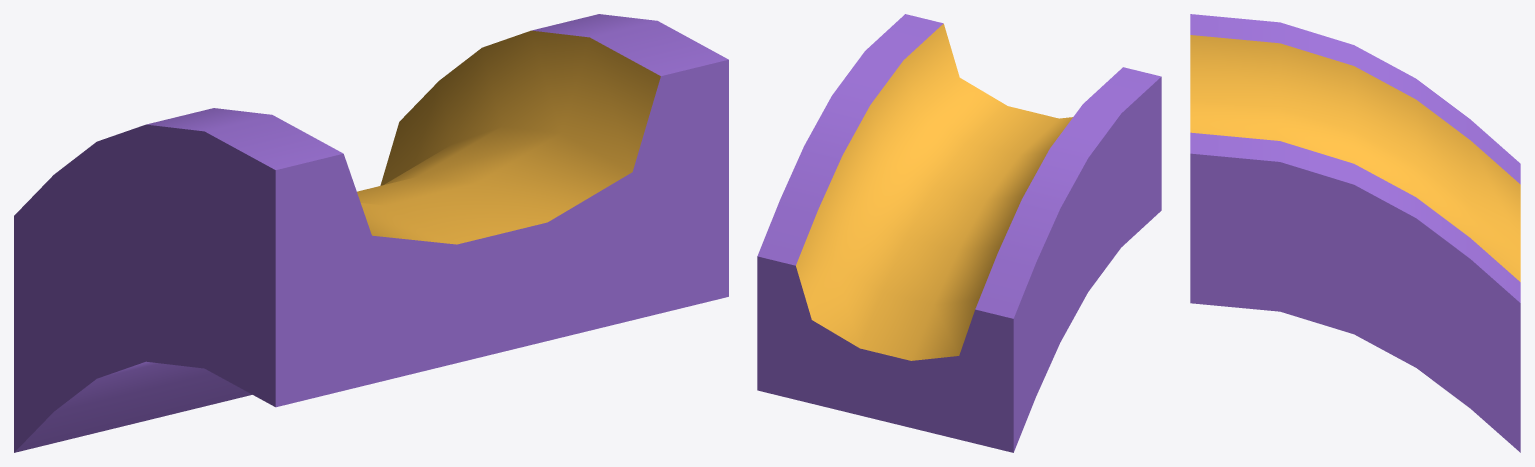
The model's file is kenney-marble-ramp-end-c.glb.
3 views of the same model, side by side, from view 1: azimuth 30°, elevation 25°; view 2: azimuth 150°, elevation 25°; view 3: azimuth 270°, elevation 25° (orthographic). The views are drawn at different scales.
Visible parts, largest first — view 1: ramp-end-c; view 2: ramp-end-c; view 3: ramp-end-c.
Part boxes in pixels (left/top/right/bottom): ramp-end-c: left=14, top=14, right=728, bottom=452; ramp-end-c: left=757, top=14, right=1161, bottom=452; ramp-end-c: left=1190, top=14, right=1520, bottom=452.
Bounding box in the file's own units: 1 × 1 × 1.
1 material, 1 textured.
